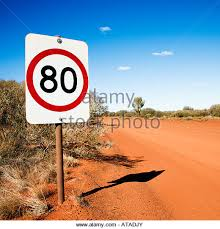Speed_limit_80km: (26, 48, 89, 113)
